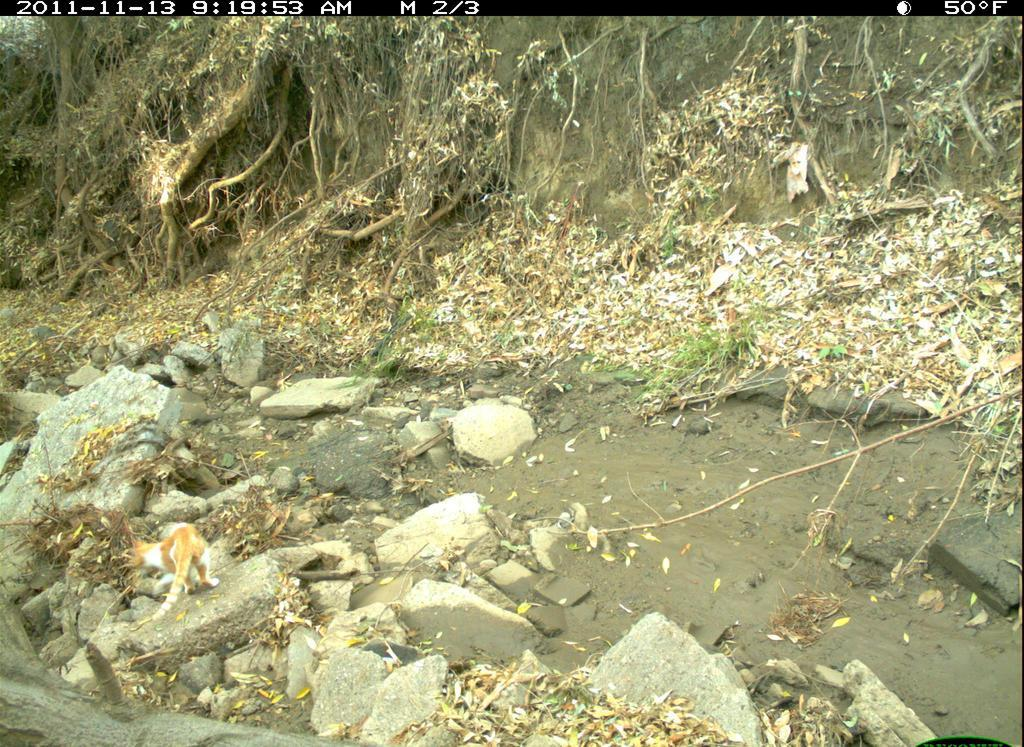cat: (132, 523, 239, 642)
